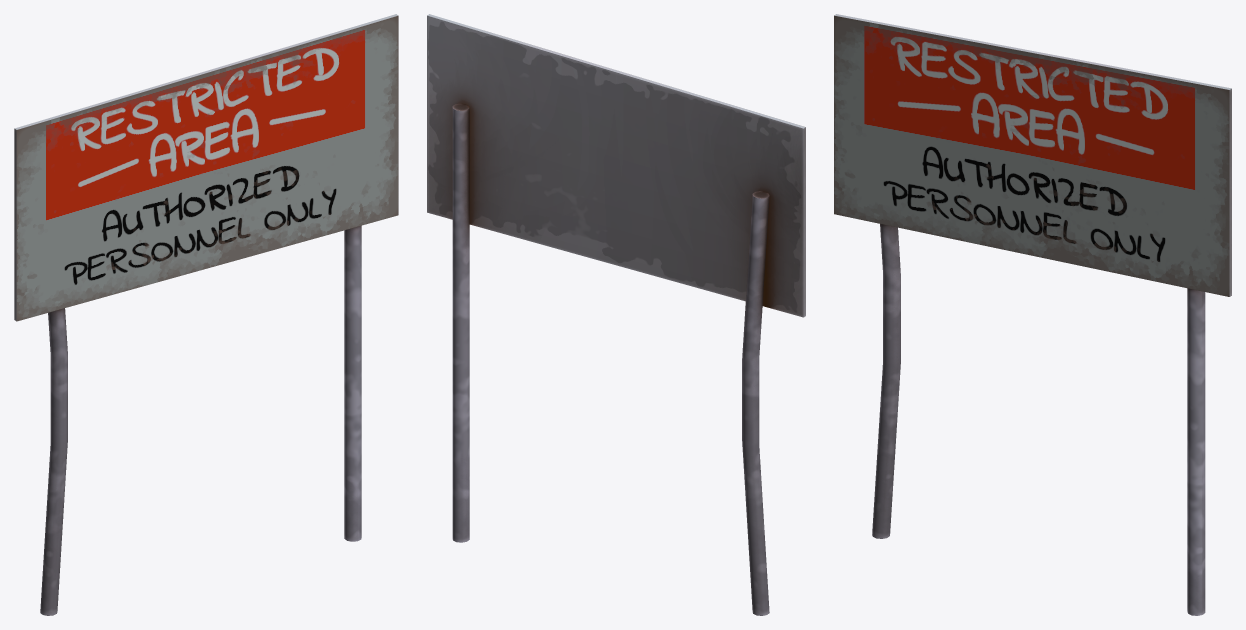
The model's file is Sign01_1.FBX.
The picture shows the model from 3 angles, left to right: view 1: azimuth 30°, elevation 25°; view 2: azimuth 150°, elevation 25°; view 3: azimuth 330°, elevation 25°; orthographic projection. The views are drawn at different scales.
Visible parts, largest first — view 1: Sign01_1; view 2: Sign01_1; view 3: Sign01_1.
Boxes of the visible parts, left/top/right/bottom form: Sign01_1: left=14, top=14, right=398, bottom=615; Sign01_1: left=427, top=14, right=805, bottom=615; Sign01_1: left=834, top=14, right=1231, bottom=615.
Size of what is drawn, in the model's own units: 1 by 1.3 by 0.0503.
